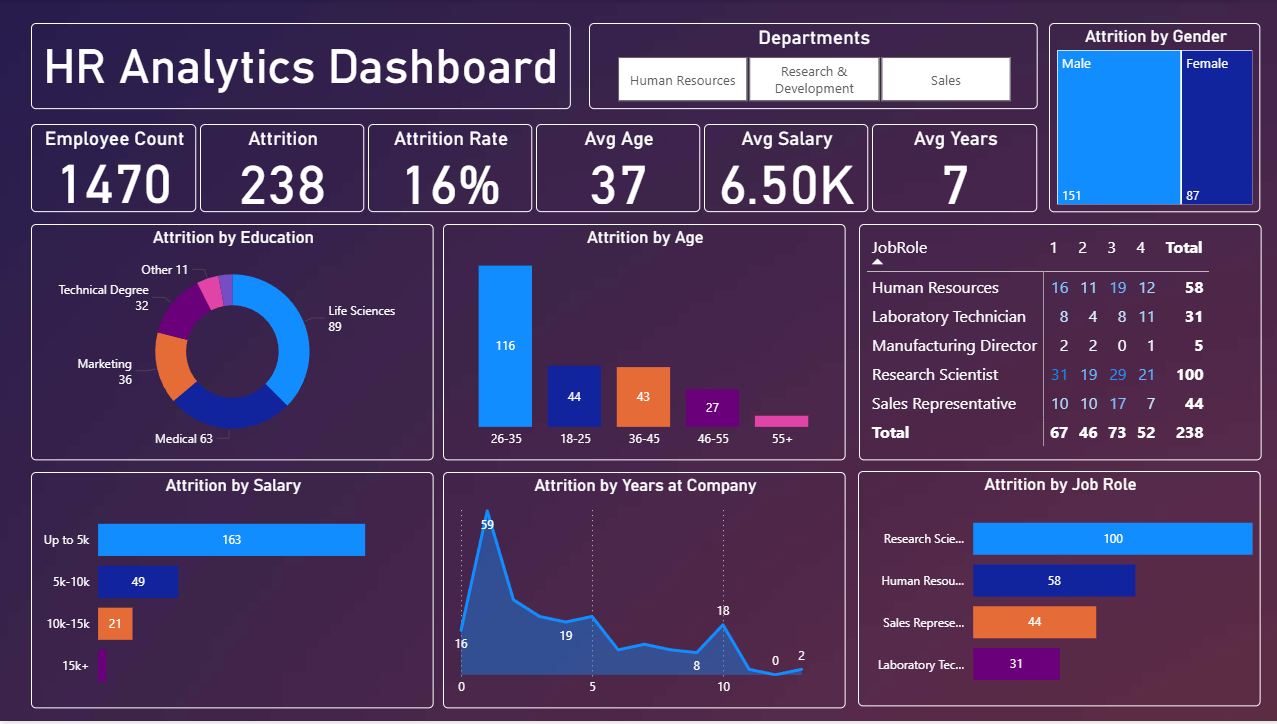

What the dashboard file says about the page in this screenshot:
{"tool":"powerbi","page":{"name":"Page 1","canvas":[1280,720],"ordinal":0},"visuals":[{"type":"card","title":"Employee Count","fields":{"Values":["Count(HR_Data.EmpID)"]},"box":[30.5,124.2,165.3,88.4],"z":0},{"type":"card","title":"Attrition","fields":{"Values":["Sum(HR_Data.Attrition_Count)"]},"box":[199.9,124.1,164.3,88.5],"z":1000},{"type":"card","title":"Attrition Rate","fields":{"Values":["HR_Data.Attrition Rate"]},"box":[367.7,124.1,164.3,88.5],"z":2000},{"type":"card","title":"Avg Age","fields":{"Values":["Avg(HR_Data.Age)"]},"box":[535.4,124.1,164.3,88.5],"z":3000},{"type":"card","title":"Avg Salary","fields":{"Values":["Avg(HR_Data.MonthlyIncome)"]},"box":[703.2,124.1,164.3,88.5],"z":4000},{"type":"card","title":"Avg Years","fields":{"Values":["Avg(HR_Data.YearsAtCompany)"]},"box":[871,124.1,165.5,88.5],"z":5000},{"type":"textbox","box":[30.5,23.2,538.9,86.3],"z":6000},{"type":"slicer","title":"Departments","fields":{"Values":["Departments.Department"]},"box":[588.3,23,448.1,86.2],"z":7000},{"type":"donutChart","title":"Attrition by Education","fields":{"Category":["Education.Education"],"Y":["Sum(HR_Data.Attrition_Count)"]},"box":[31,224.1,402.2,235.5],"z":8000},{"type":"treemap","title":"Attrition by Gender","fields":{"Group":["HR_Data.Gender"],"Values":["Sum(HR_Data.Attrition_Count)"]},"box":[1047.7,23.2,211.5,189.5],"z":9000},{"type":"columnChart","title":"Attrition by Age","fields":{"Category":["HR_Data.AgeGroup"],"Y":["Sum(HR_Data.Attrition_Count)"],"Series":["HR_Data.AgeGroup"]},"box":[442.4,224.1,402.2,235.5],"z":10000},{"type":"pivotTable","title":"Attrition by Education","fields":{"Values":["Sum(HR_Data.Attrition_Count)"],"Rows":["Jobs.JobRole"],"Columns":["HR_Data.JobSatisfaction"]},"box":[857.2,224.1,402.2,235.5],"z":11000},{"type":"barChart","title":"Attrition by Salary","fields":{"Y":["Sum(HR_Data.Attrition_Count)"],"Category":["HR_Data.SalarySlab"],"Series":["HR_Data.SalarySlab"]},"box":[31,471.1,402.2,235.5],"z":12000},{"type":"areaChart","title":"Attrition by Years at Company","fields":{"Category":["HR_Data.YearsAtCompany"],"Y":["Sum(HR_Data.Attrition_Count)"]},"box":[442.4,471.1,402.2,235.5],"z":13000},{"type":"barChart","title":"Attrition by Job Role","fields":{"Y":["Sum(HR_Data.Attrition_Count)"],"Category":["Jobs.JobRole"],"Series":["Jobs.JobRole"]},"box":[857,470.7,402.2,234.7],"z":14000}]}

Visuals, with their boxes in screenshot pixels (x1, y1, x2, y2), scaled from the page's 1280x720 canvas onto the 1277x724 screenshot:
"Employee Count" card: [30,125,195,214]
"Attrition" card: [199,125,363,214]
"Attrition Rate" card: [367,125,531,214]
"Avg Age" card: [534,125,698,214]
"Avg Salary" card: [702,125,865,214]
"Avg Years" card: [869,125,1034,214]
textbox: [30,23,568,110]
"Departments" slicer: [587,23,1034,110]
"Attrition by Education" donutChart: [31,225,432,462]
"Attrition by Gender" treemap: [1045,23,1256,214]
"Attrition by Age" columnChart: [441,225,843,462]
"Attrition by Education" pivotTable: [855,225,1256,462]
"Attrition by Salary" barChart: [31,474,432,711]
"Attrition by Years at Company" areaChart: [441,474,843,711]
"Attrition by Job Role" barChart: [855,473,1256,709]
